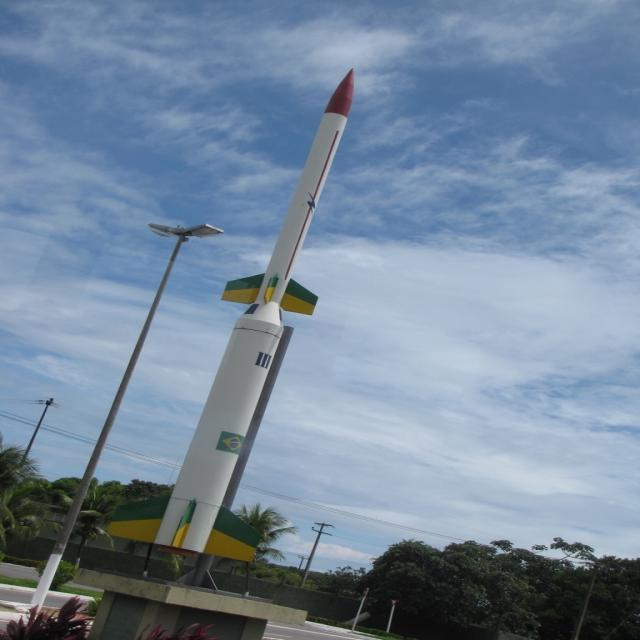rocket: (156, 64, 364, 562)
